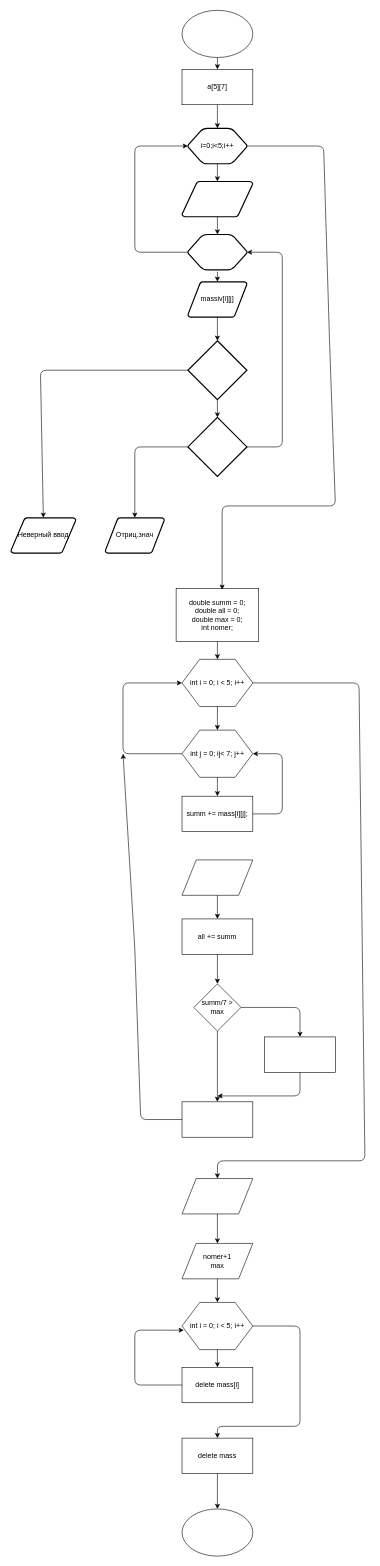
Some shapes in this 380 by 1566 pixel diagram are drawn without their labels. The centre of each missing label's shape, as x and y in pixels:
!cin.good(): the point at 217,370
all / 35: the point at 217,1196
j=0;j<5;j++: the point at 217,252
massiv[i][j]<0: the point at 217,447
max = summ/7; nomer = i;: the point at 299,1054
summ / 7: the point at 217,877
summ = 0: the point at 217,1119
Введите суточный надой: the point at 217,199
